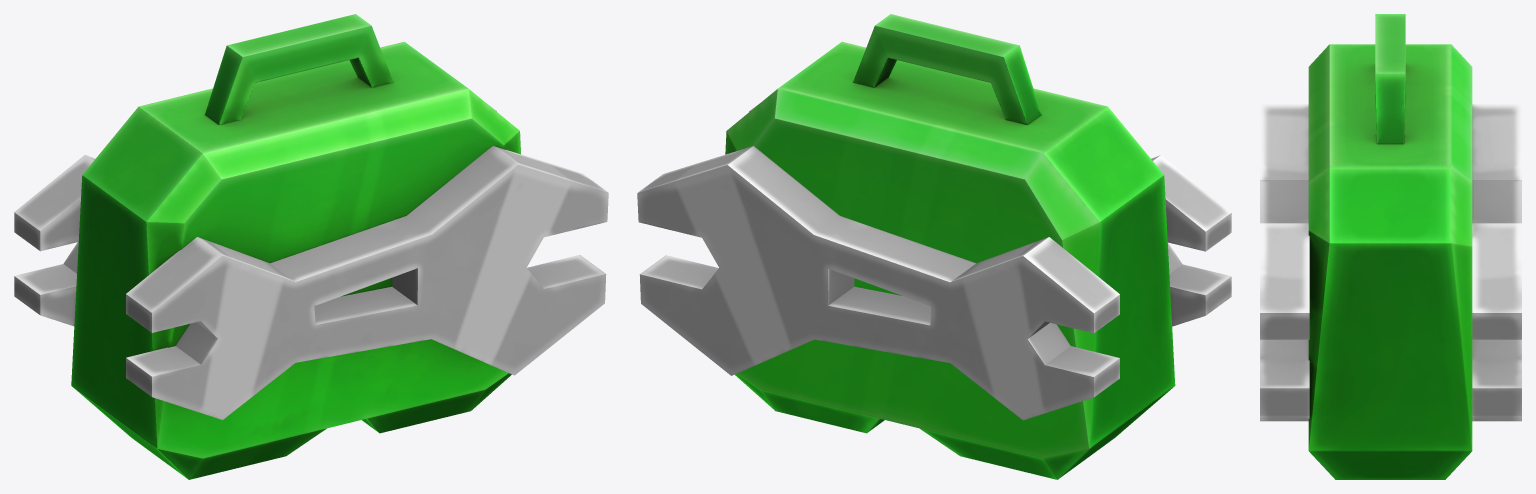
The picture shows the model from 3 angles, left to right: view 1: azimuth 30°, elevation 25°; view 2: azimuth 150°, elevation 25°; view 3: azimuth 270°, elevation 25°; orthographic projection. The views are drawn at different scales.
Parts seen in each view (by area): view 1: HP; view 2: HP; view 3: HP.
Part boxes in pixels (x1,y1,x2,y2): HP: [14, 14, 608, 479]; HP: [637, 14, 1231, 479]; HP: [1260, 14, 1521, 479].
Bounding box in the file's own units: 76.28 × 62.12 × 39.85.
